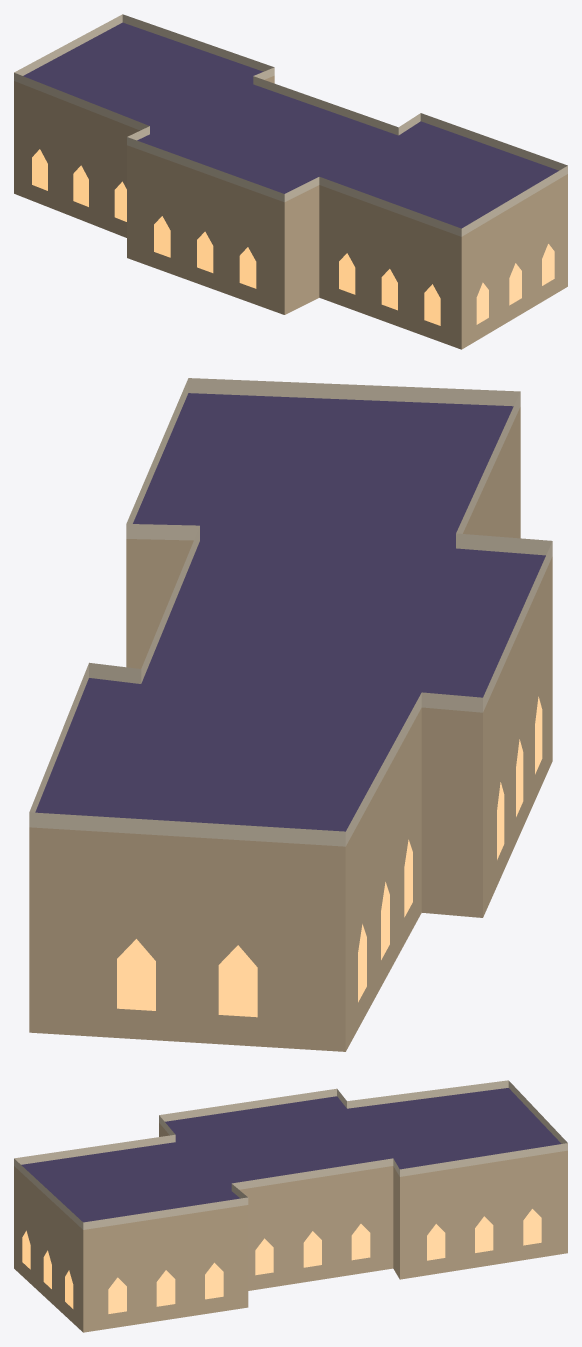
3 views of the same model, one above another, from view 1: azimuth 30°, elevation 25°; view 2: azimuth 150°, elevation 25°; view 3: azimuth 270°, elevation 25° (orthographic). The views are drawn at different scales.
Parts seen in each view (by area): view 1: campus/b-037-0; view 2: campus/b-037-0; view 3: campus/b-037-0.
Part boxes in pixels (box(x1,y1,x2,y2)): campus/b-037-0: box(14, 14, 567, 349); campus/b-037-0: box(29, 378, 552, 1051); campus/b-037-0: box(14, 1080, 567, 1332).
Size of the model in its own units: 22.28 by 8.05 by 36.68.
